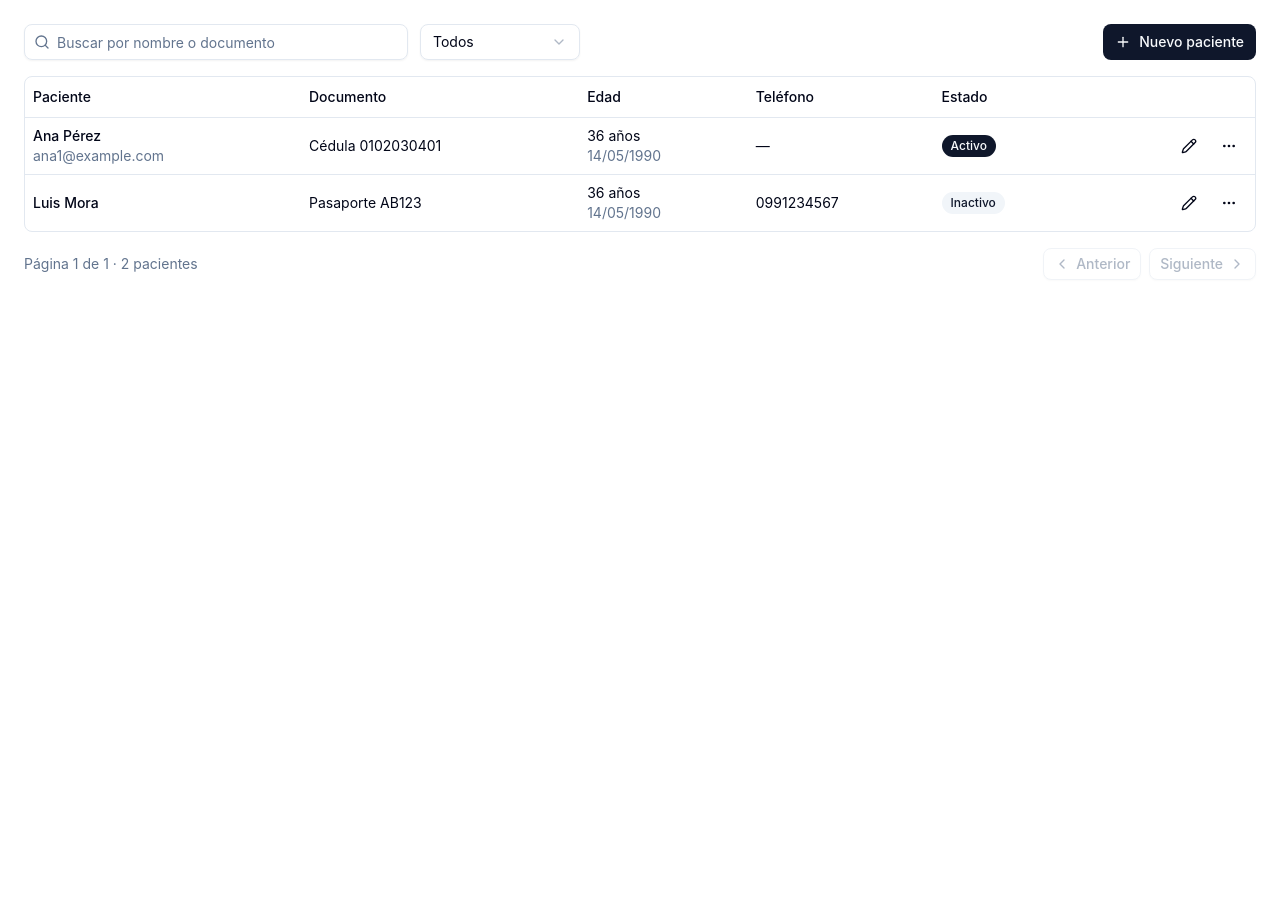
Test: PatientsPage › edits a patient loading its details first
Expected: the text "Ana Pérez" is shown, [33, 126, 101, 144]
Click the button named "Editar a Ana Pérez": click(1189, 146) [1171, 128, 1207, 164]
(page scrolled)
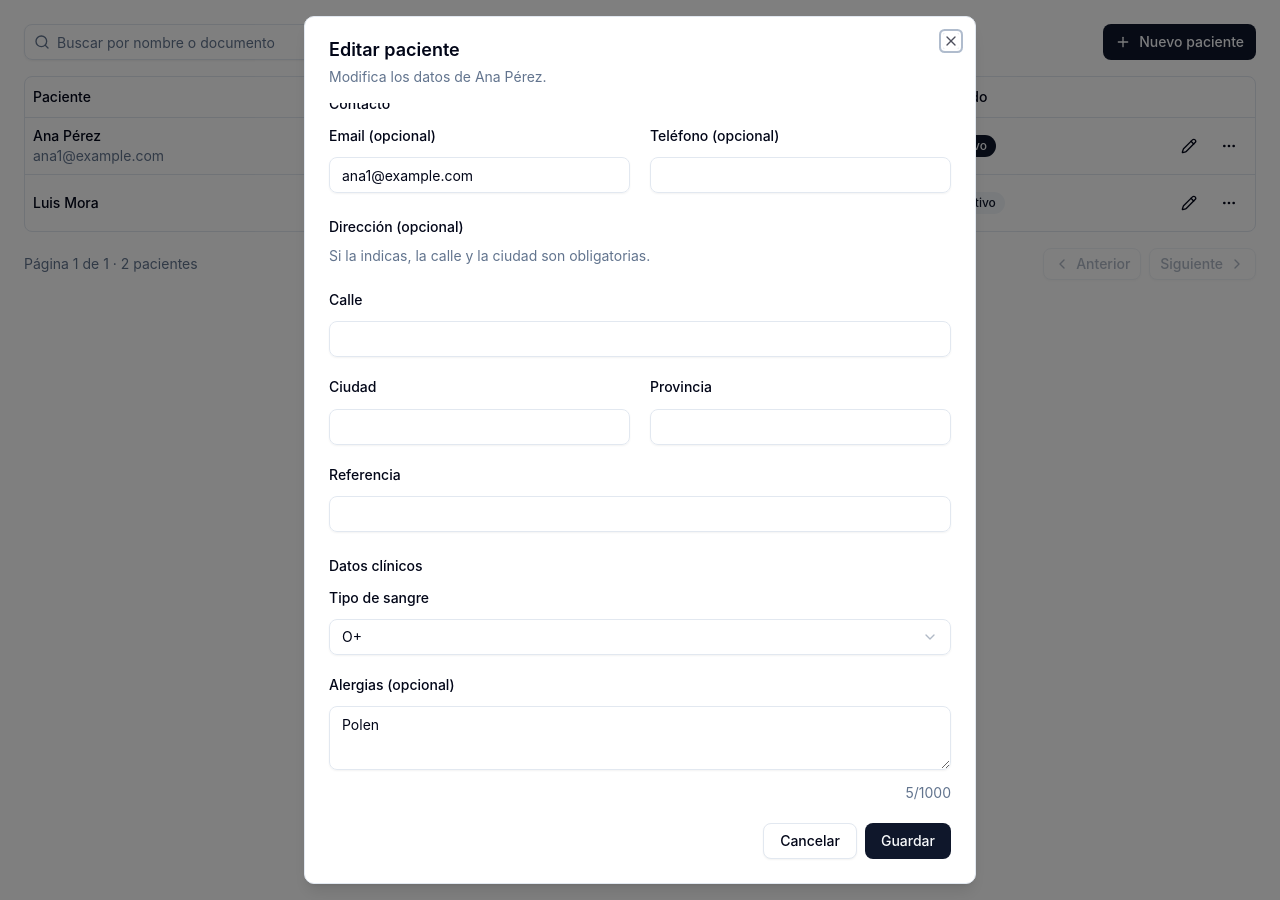
Expected: the text "Modifica los datos de Ana Pérez." is shown, [329, 68, 546, 85]
Expected: the text box labelled "Alergias (opcional)" holds "Polen"
Clear the text box labelled "Alergias (opcional)": (640, 738) [329, 706, 951, 770]
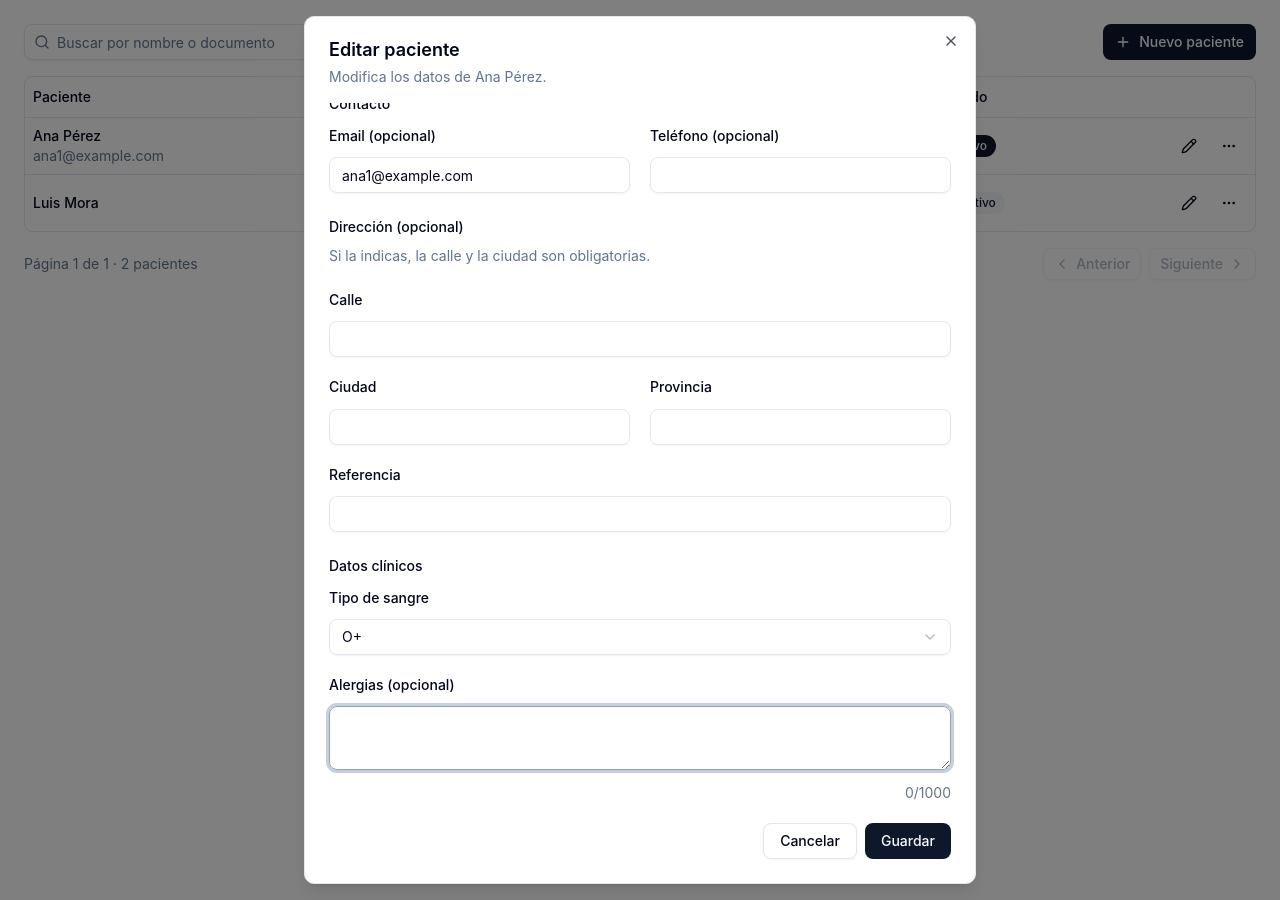
Clear the field labelled "Email (opcional)": (480, 175) [329, 157, 630, 193]
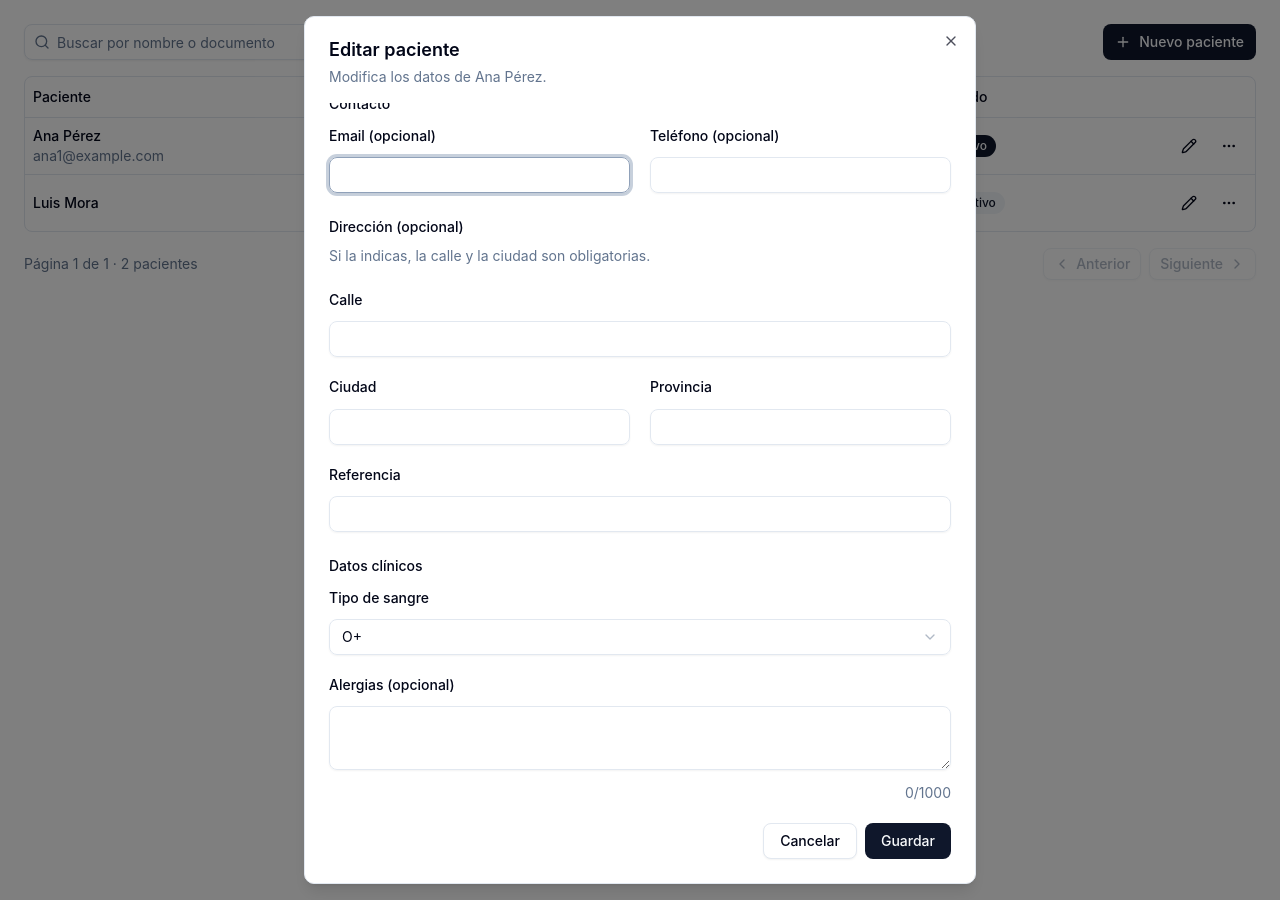
Click the button "Guardar": click(908, 841) [865, 823, 951, 859]
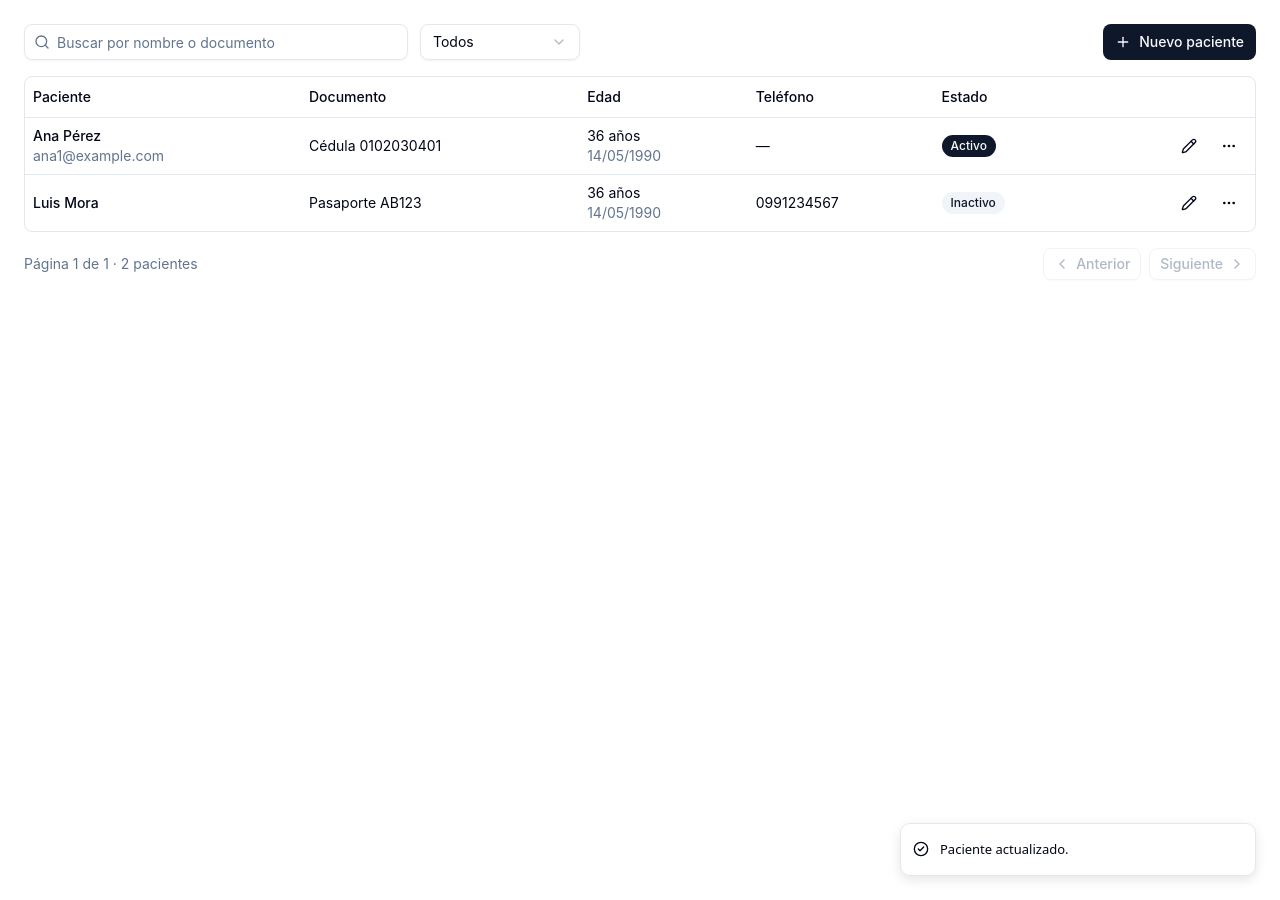
Expected: the text "Paciente actualizado." is shown, [940, 840, 1068, 859]
